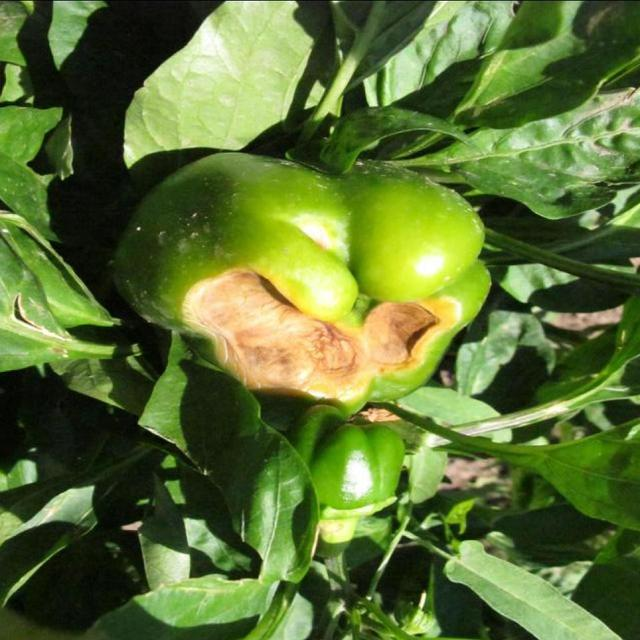Sunscald Fruit: (167, 128, 278, 318)
